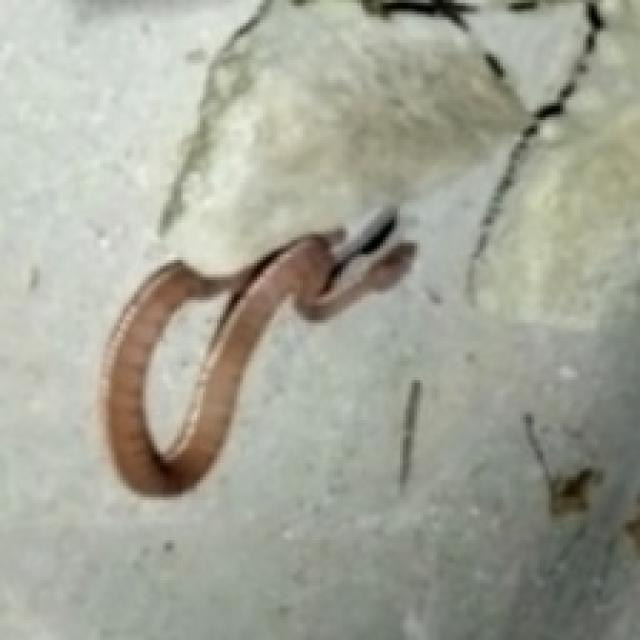philippine pitviper: (106, 206, 411, 491)
